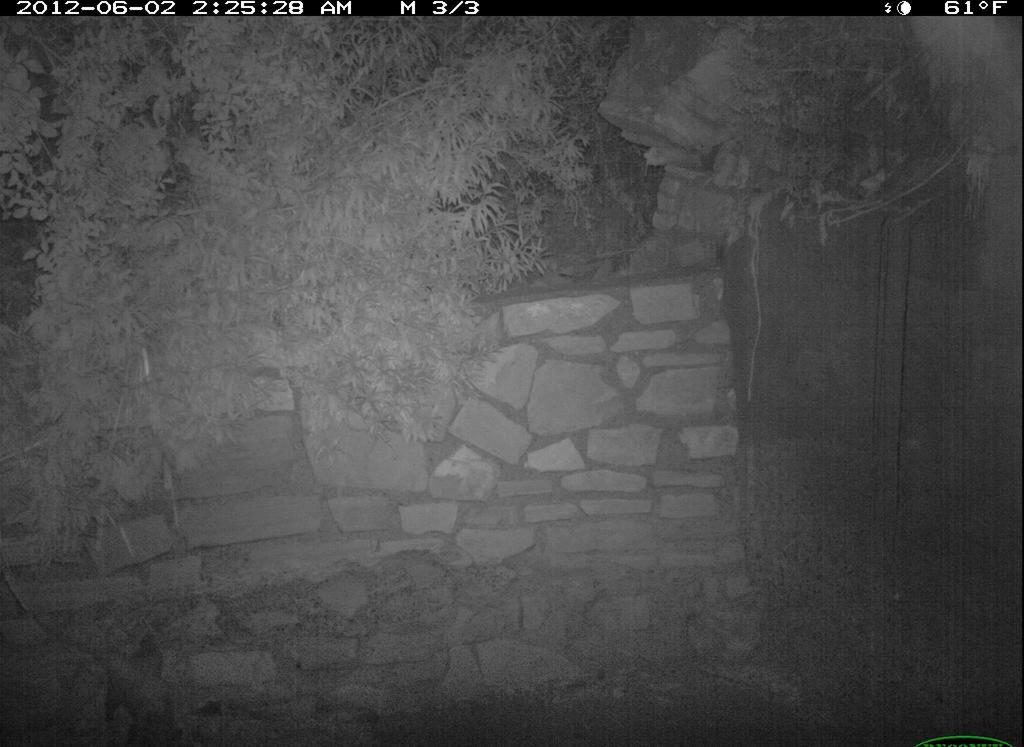opossum: (100, 626, 190, 740)
